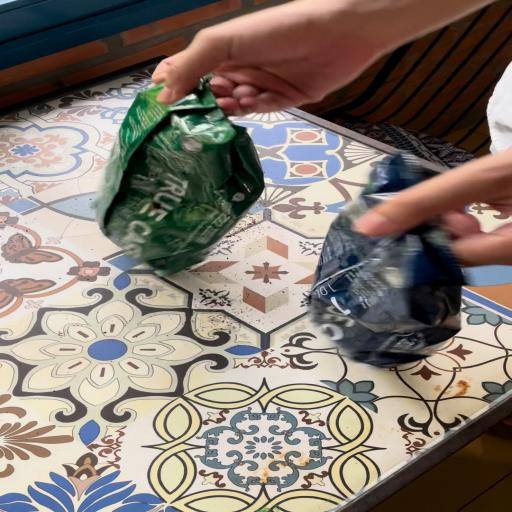cafe_hat: (309, 153, 465, 368)
cafe_xay: (95, 77, 264, 274)
